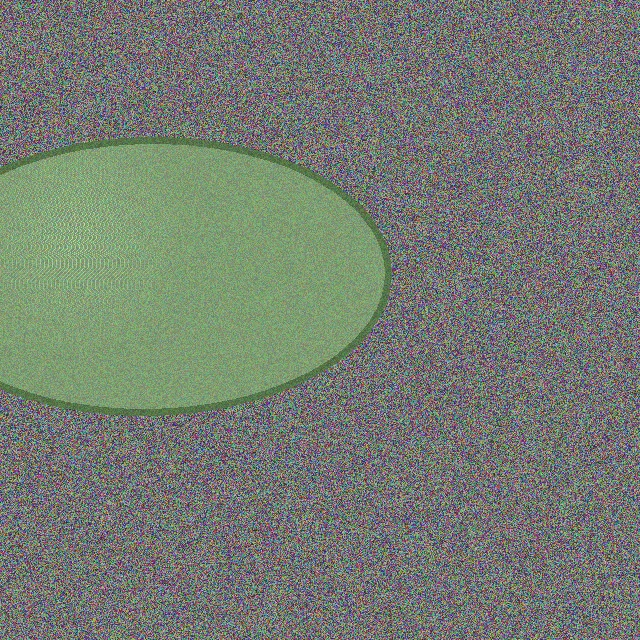lens: (0, 140, 388, 412)
